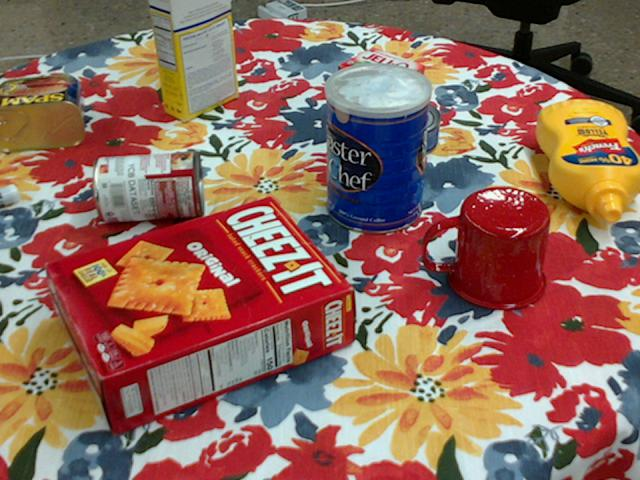cracker_box: (43, 198, 352, 436)
gelatin_box: (335, 49, 423, 105)
large_marker: (0, 183, 19, 206)
master_chef_can: (324, 63, 431, 235)
mug: (422, 186, 550, 311)
mustard_bottle: (534, 98, 639, 221)
potted_meat_can: (0, 74, 83, 150)
sugar_box: (150, 0, 237, 119)
tomato_soup_can: (91, 150, 201, 222)
tuna_fish_can: (366, 98, 440, 158)
